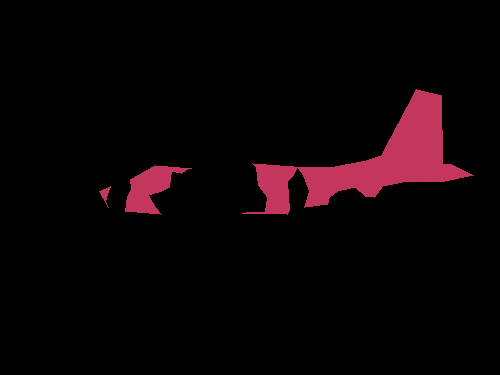Airplane: (99, 89, 474, 214)
